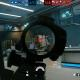Character: (38, 39, 44, 50)
Head: (39, 40, 41, 41)
